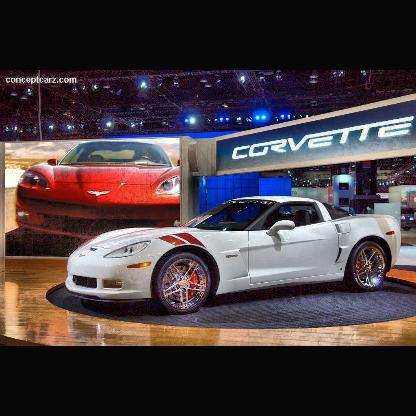Chevrolet Corvette Ron Fellows Edition Z06 2007: (65, 195, 405, 316)
